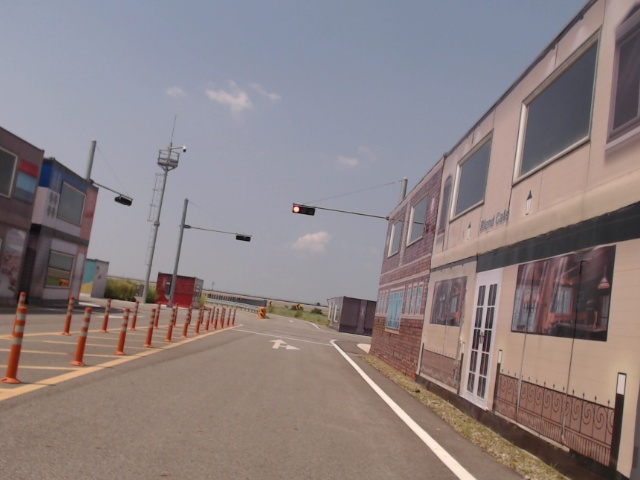red_3: (293, 204, 316, 217)
